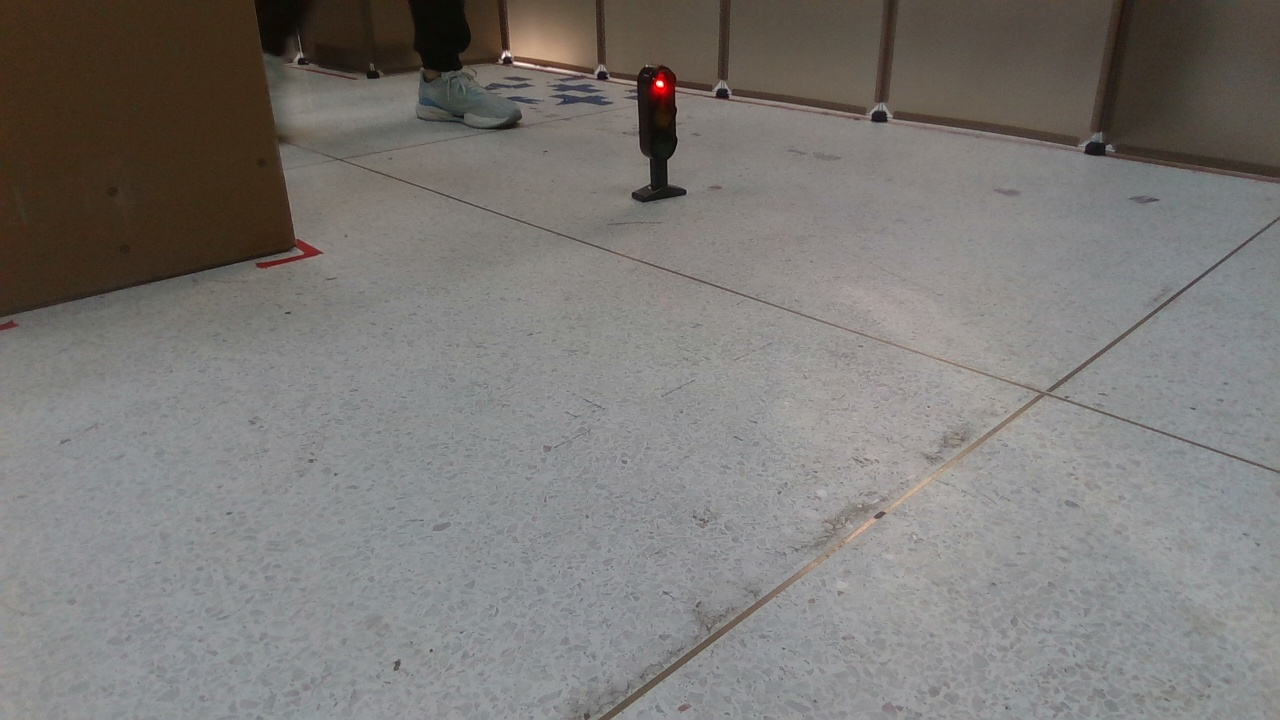Red traffic light: (625, 65, 691, 203)
